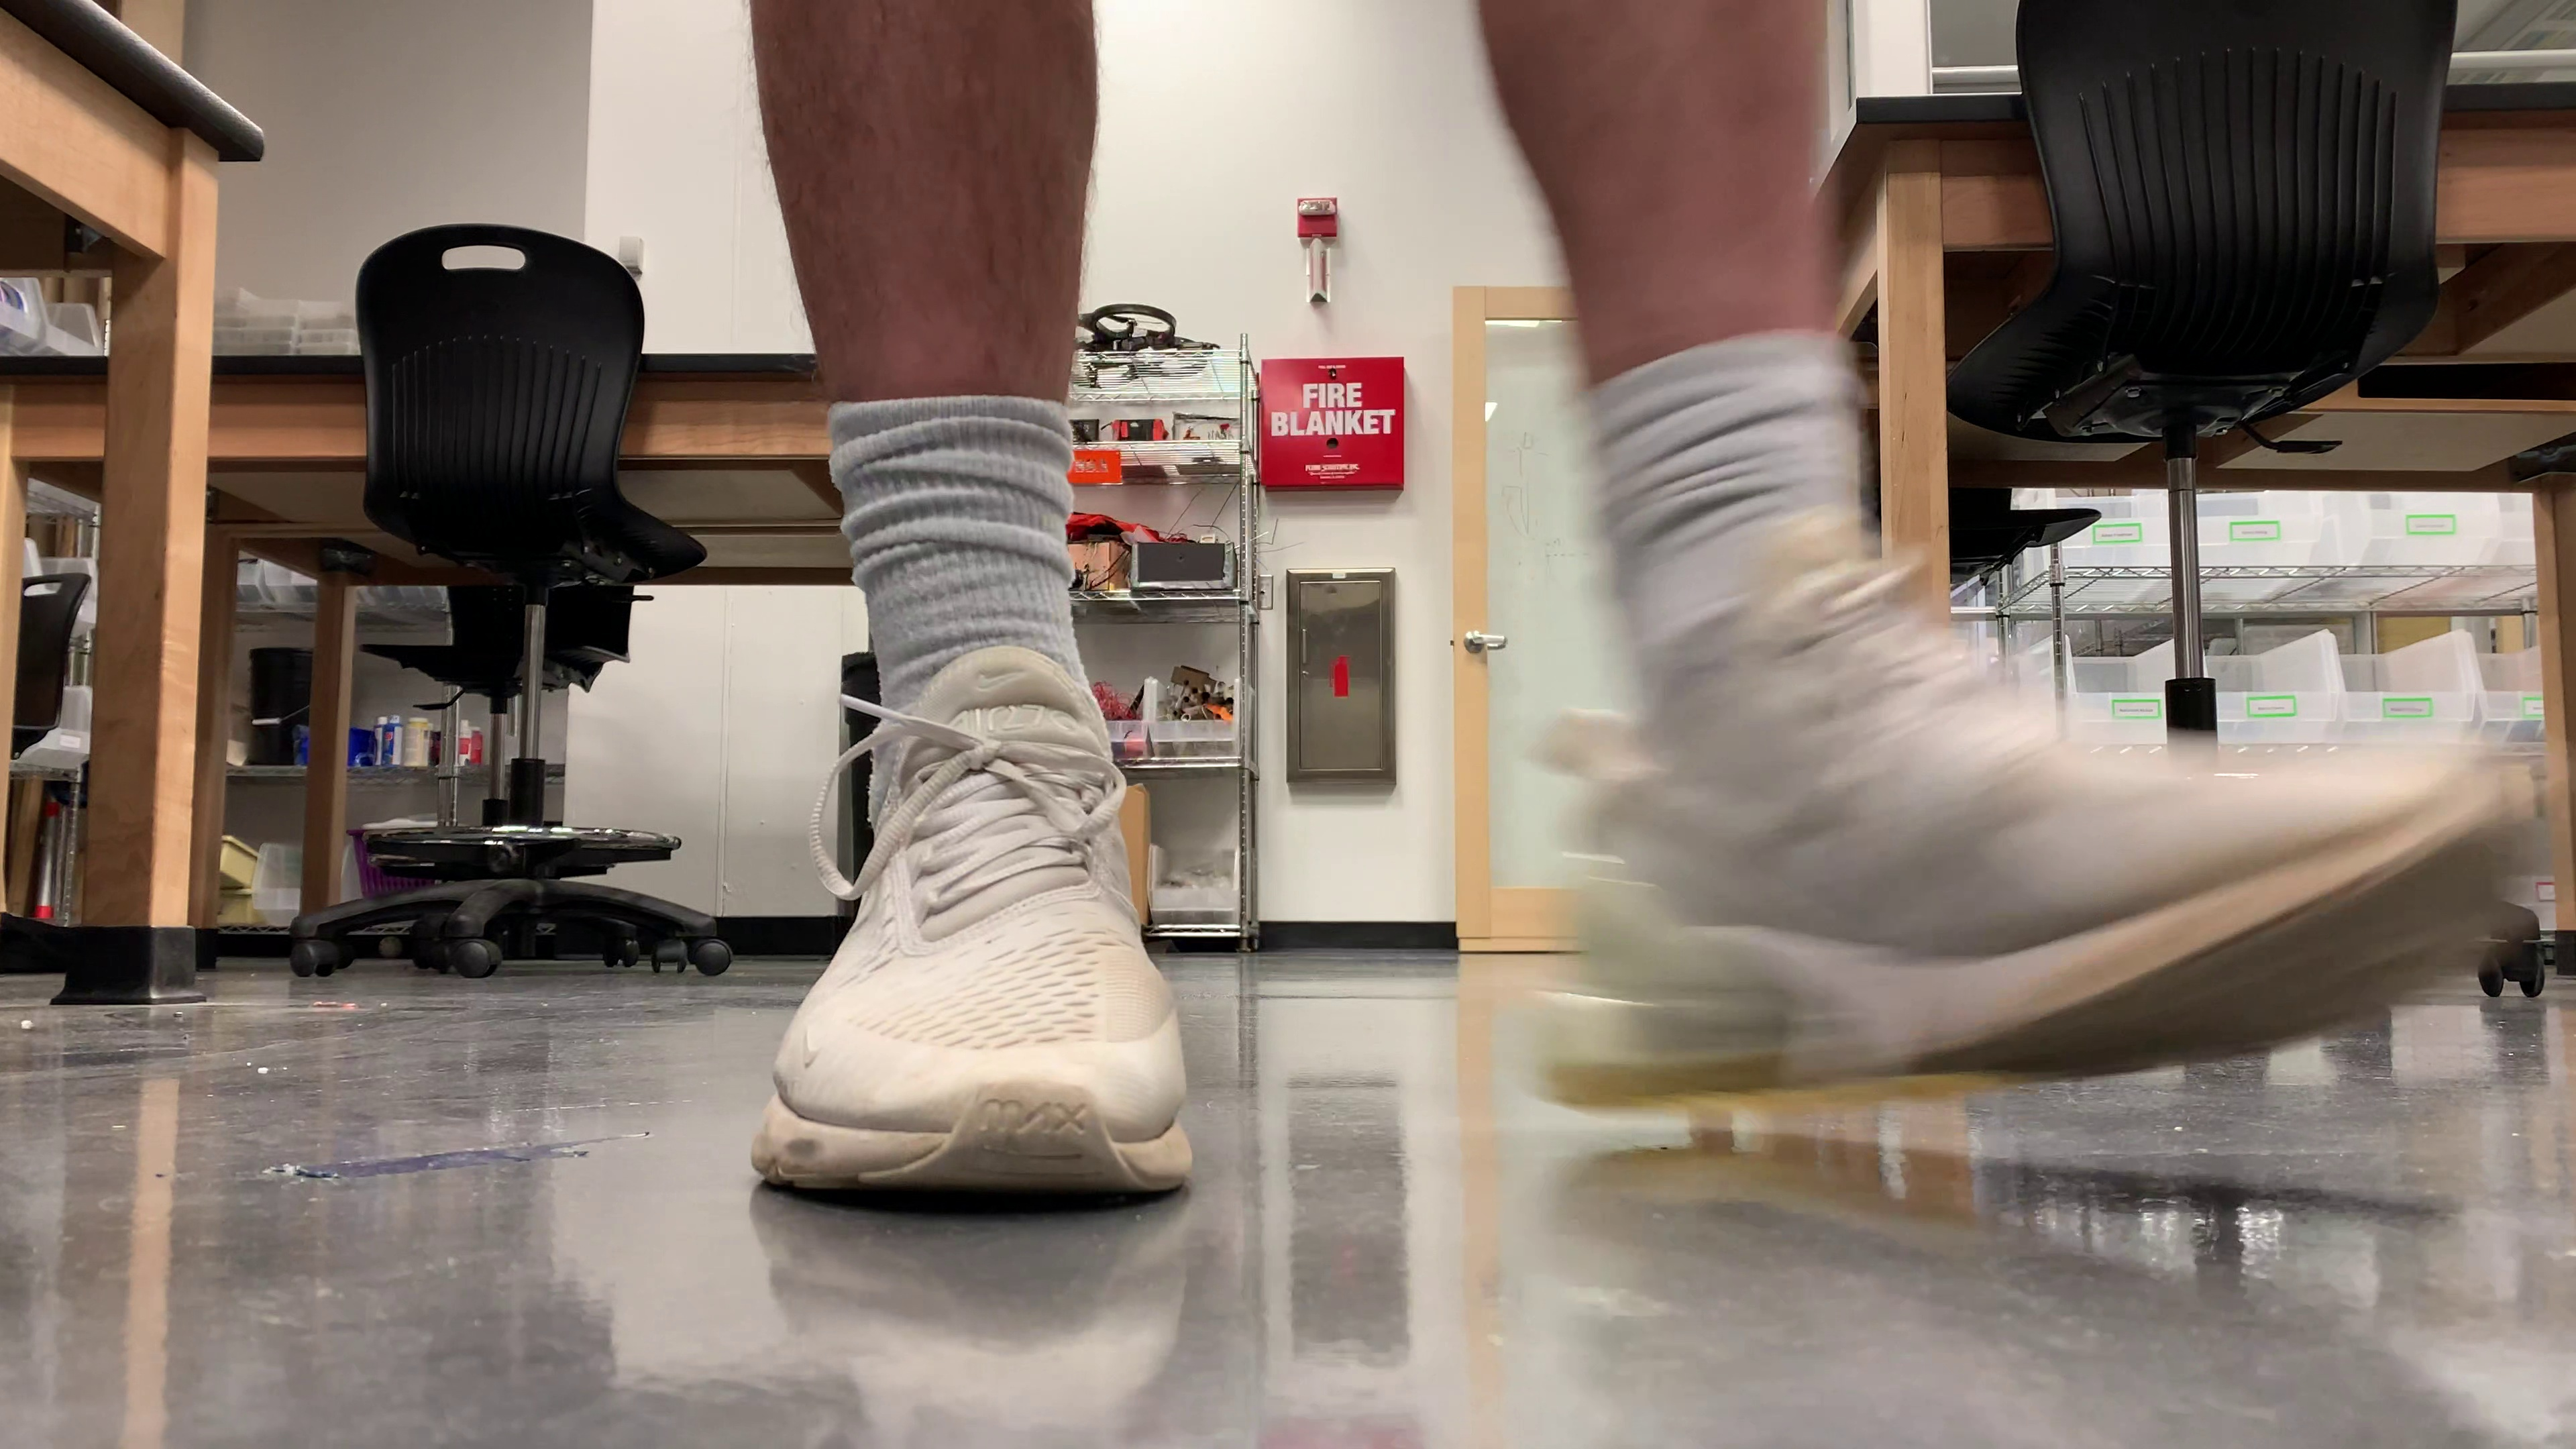shoe: (748, 642, 1194, 1196)
